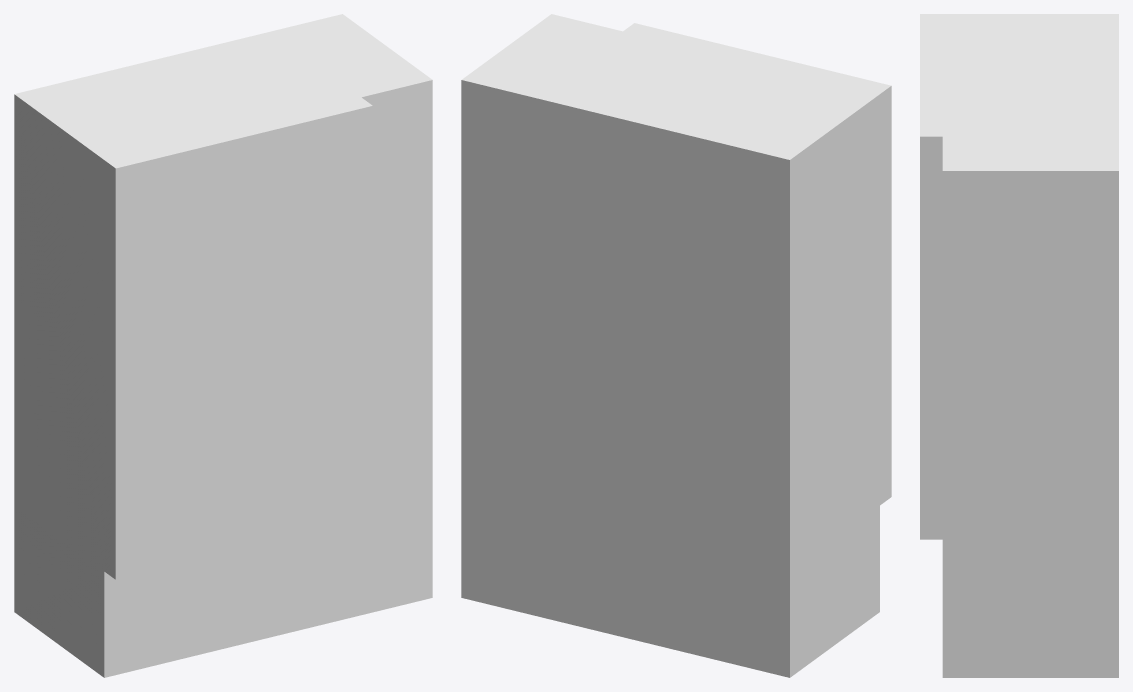
Rendered from vendingMachine01.glb.
3 renders of one model, left to right at view 1: azimuth 30°, elevation 25°; view 2: azimuth 150°, elevation 25°; view 3: azimuth 270°, elevation 25°, orthographic. The views are drawn at different scales.
Visible parts, largest first — view 1: vending_Machine_Big; view 2: vending_Machine_Big; view 3: vending_Machine_Big.
Part boxes in pixels (box(x1,y1,x2,y2)): vending_Machine_Big: box(14, 14, 432, 677); vending_Machine_Big: box(461, 14, 891, 677); vending_Machine_Big: box(920, 14, 1118, 677).
Bounding box in the file's own units: 1.65 × 2.48 × 0.8819.
Materials: 2 (2 with a texture image).
